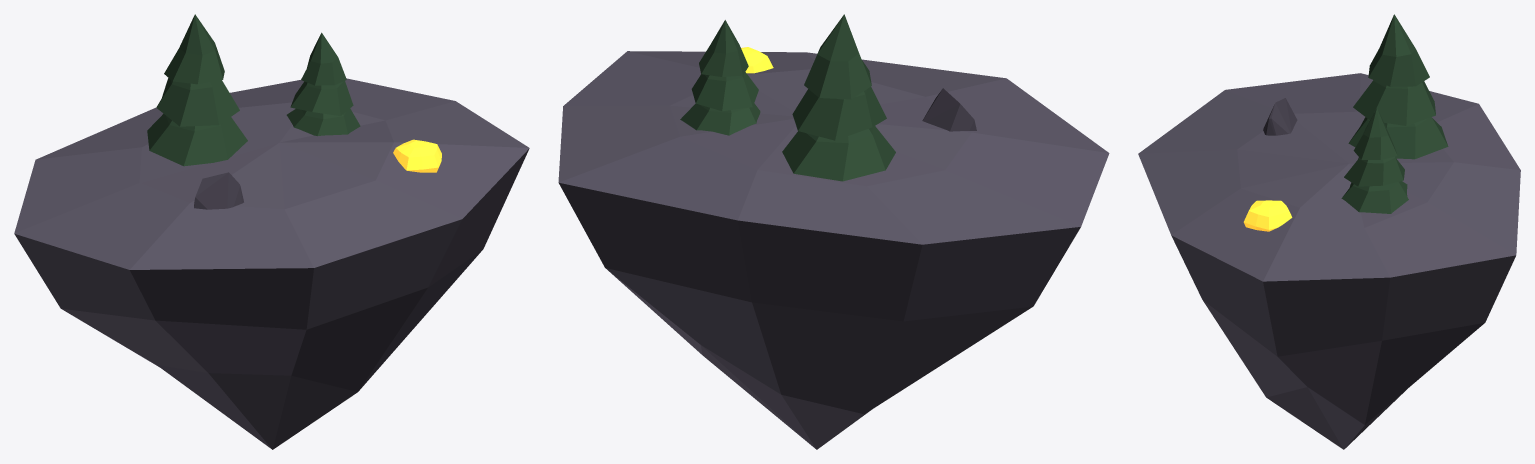
File: decor_rockIsle.glb
The picture shows the model from 3 angles, left to right: view 1: azimuth 30°, elevation 25°; view 2: azimuth 150°, elevation 25°; view 3: azimuth 270°, elevation 25°; orthographic projection. The views are drawn at different scales.
Parts seen in each view (by area): view 1: decor_rockIsle_mesh; view 2: decor_rockIsle_mesh; view 3: decor_rockIsle_mesh.
Boxes of the visible parts, x1,y1,x2,y2 form: decor_rockIsle_mesh: [14, 14, 529, 449]; decor_rockIsle_mesh: [558, 14, 1109, 449]; decor_rockIsle_mesh: [1138, 14, 1520, 449].
Bounding box in the file's own units: 0.9629 × 0.85 × 0.7159.
